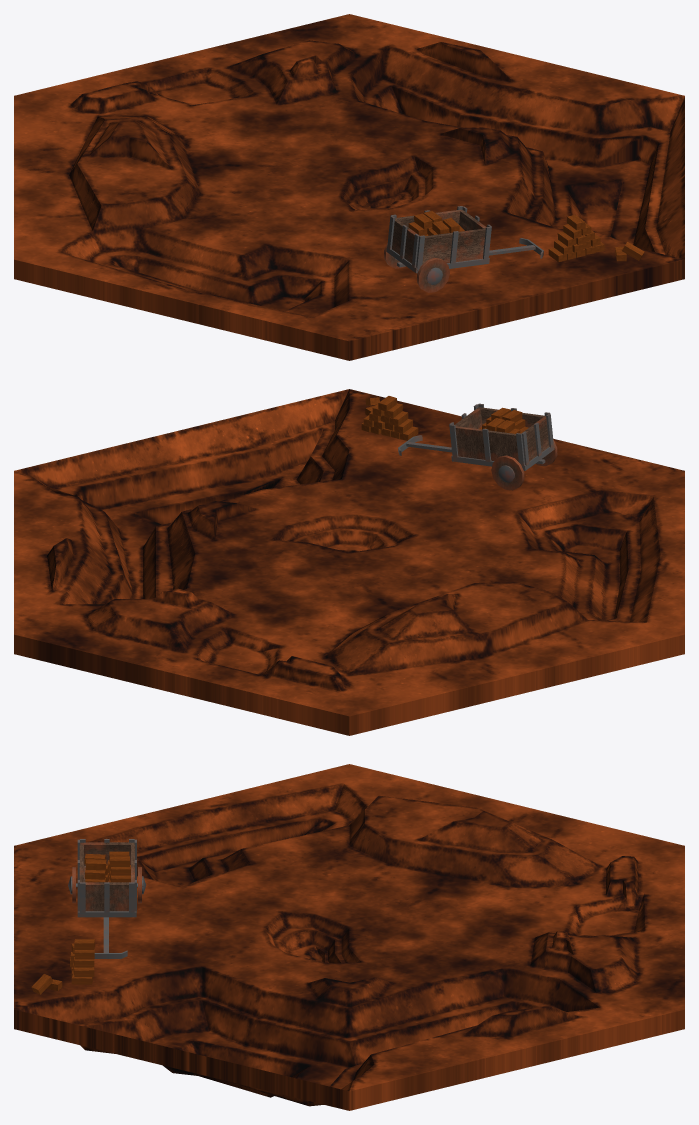
Rendered from brick_tile_full02.fbx.
The picture shows the model from 3 angles, top to bottom: view 1: azimuth 30°, elevation 25°; view 2: azimuth 150°, elevation 25°; view 3: azimuth 270°, elevation 25°; orthographic projection.
Parts seen in each view (by area): view 1: brick_tile_ground, cart, wheel1; view 2: brick_tile_ground, cart, wheel2; view 3: brick_tile_ground, cart.
Boxes of the visible parts, box(x1,y1,x2,y2) form: brick_tile_ground: box(14, 14, 684, 360); cart: box(392, 209, 486, 264); wheel1: box(417, 258, 449, 292); brick_tile_ground: box(14, 389, 684, 735); cart: box(455, 407, 549, 461); wheel2: box(491, 455, 524, 490); brick_tile_ground: box(14, 764, 684, 1110); cart: box(79, 842, 134, 911).
Size of the model in its own units: 139 by 22.66 by 120.
